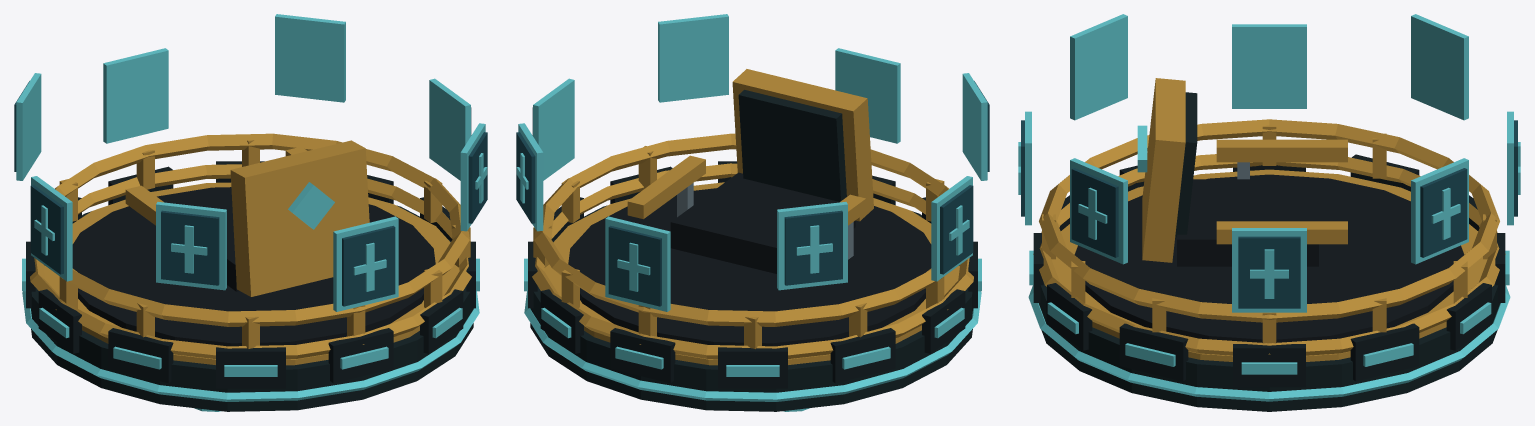
The model's file is kart.glb.
The picture shows the model from 3 angles, left to right: view 1: azimuth 30°, elevation 25°; view 2: azimuth 150°, elevation 25°; view 3: azimuth 270°, elevation 25°; orthographic projection. The views are drawn at different scales.
Parts seen in each view (by area): view 1: hover-disc; view 2: hover-disc; view 3: hover-disc.
Boxes of the visible parts, <box> form: hover-disc: <box>14,14,487,411</box>; hover-disc: <box>516,14,989,411</box>; hover-disc: <box>1018,14,1520,411</box>.
Bounding box in the file's own units: 2.33 × 1.22 × 2.33.
